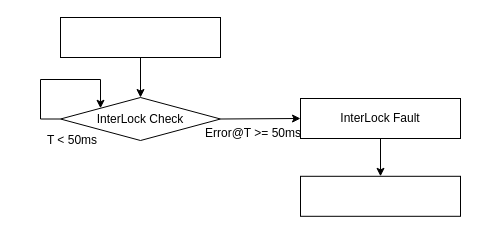
Some shapes in this 478 by 234 pixel diagram are drawn without their labels. Here are the shapes that lost their labels. From the top down, the centre of each, then its label:
point (140, 37): 고장 진단 로직 진입
point (380, 195): 작동 정지 후 기본 로직 수행
